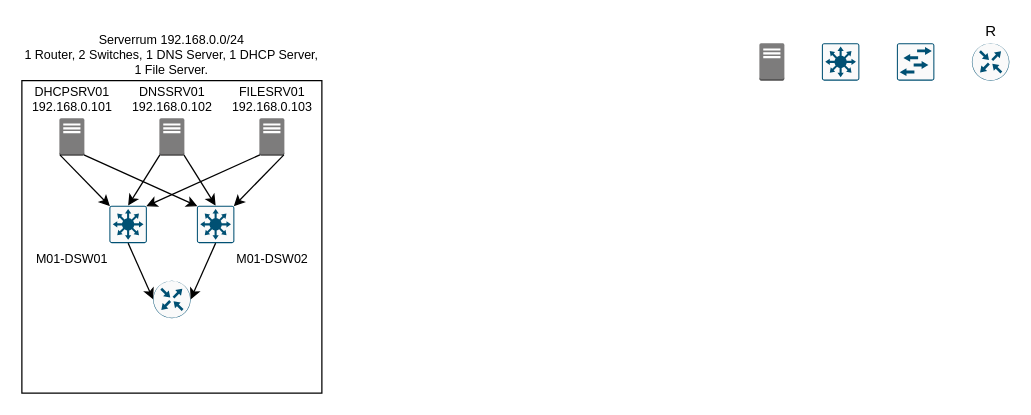
This 1031x415 diagram has some shape labels left out. Each missing label, with the centre of its shape:
"L2" belongs at point (915, 61).
"L3" belongs at point (840, 61).
"M01-R1" belongs at point (171, 298).
"SRV" belongs at point (771, 61).
